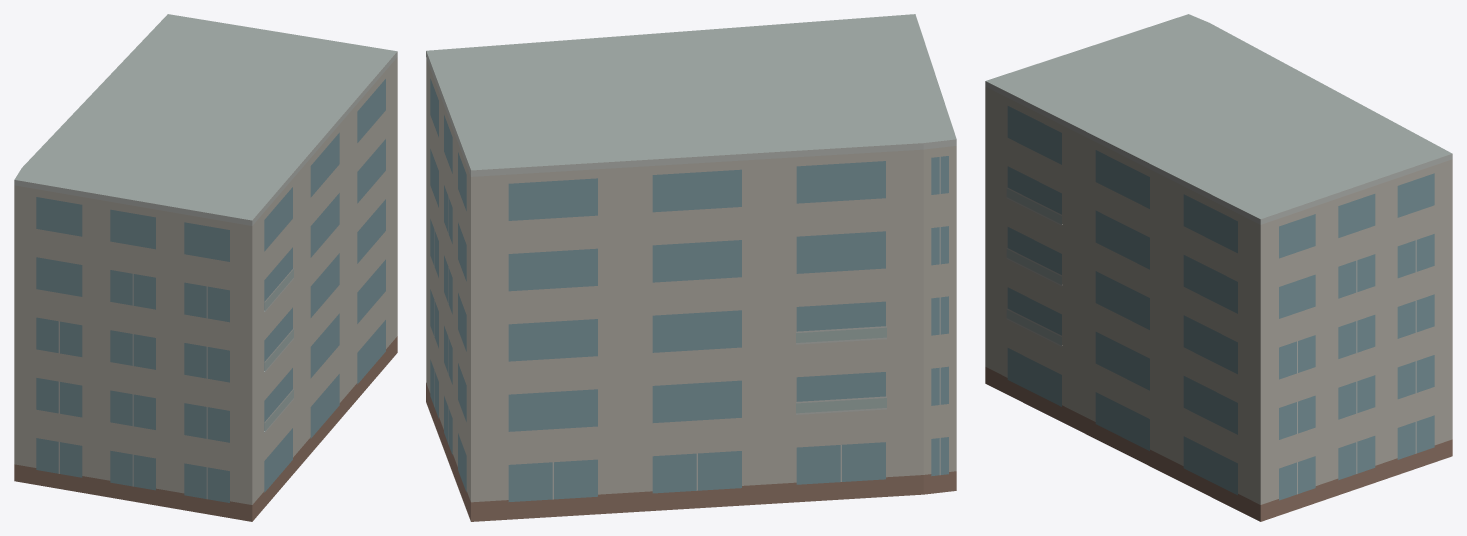
Rendered from survey-upis-32779651.glb.
3 views of the same model, side by side, from view 1: azimuth 30°, elevation 25°; view 2: azimuth 150°, elevation 25°; view 3: azimuth 270°, elevation 25° (orthographic). The views are drawn at different scales.
Visible parts, largest first — view 1: survey-upis-32779651.tmp; view 2: survey-upis-32779651.tmp; view 3: survey-upis-32779651.tmp.
Part boxes in pixels (bbox=[...]): survey-upis-32779651.tmp: bbox=[14, 14, 397, 521]; survey-upis-32779651.tmp: bbox=[426, 14, 956, 521]; survey-upis-32779651.tmp: bbox=[985, 14, 1452, 521].
Bounding box in the file's own units: 19.29 × 13.25 × 18.55.
